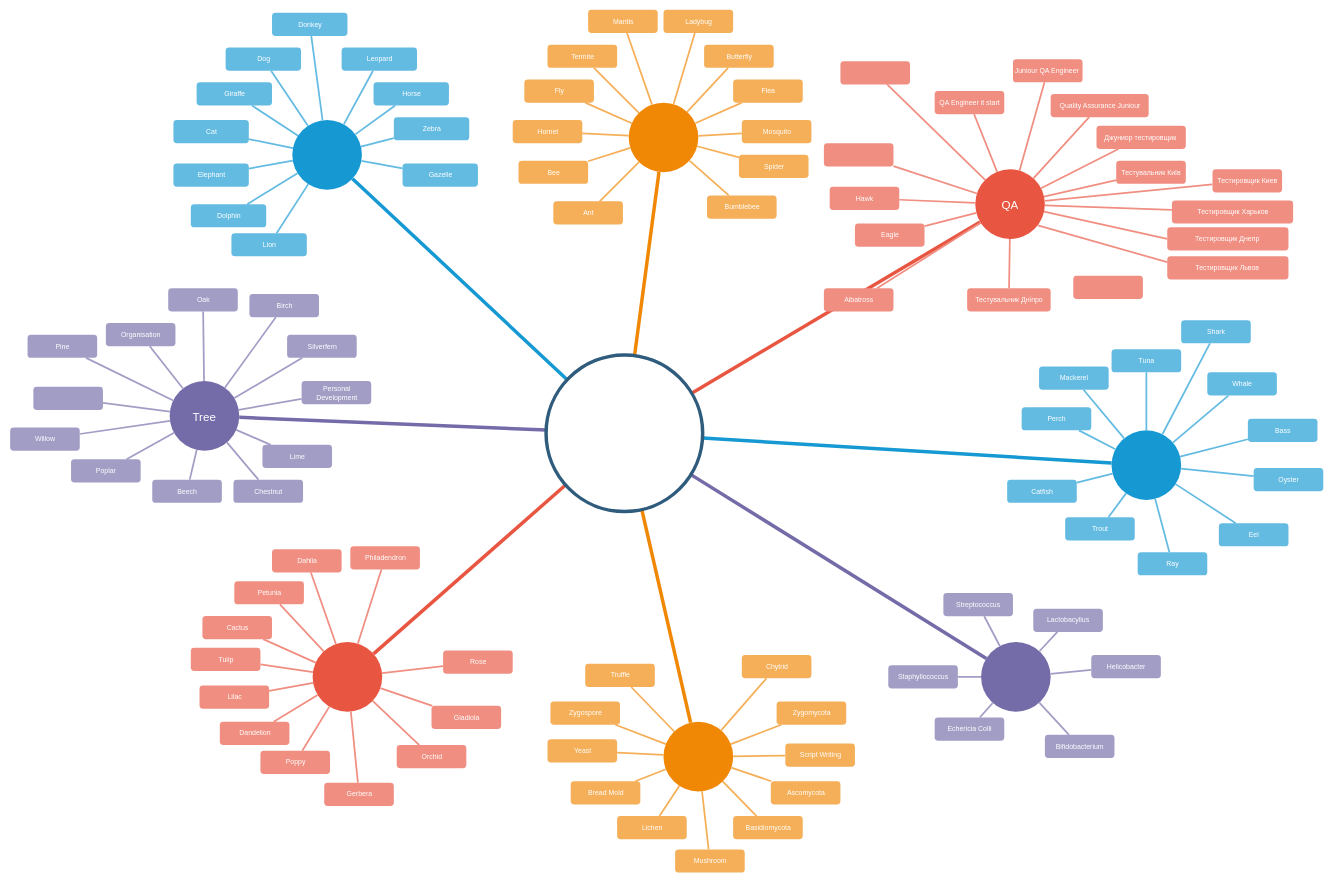
Some shapes in this 1333 by 883 pixel diagram are drawn without their labels. Each missing label, with the centre of its shape:
Acacia: point 68,398
Android: point 1015,676
Falcon: point 858,154
Flower: point 347,676
Fungi: point 698,756
IOS: point 1146,465
IT: point 663,137
Java: point 327,154
pumpIT: point 624,433
Тестувальник Львів: point 1108,287
